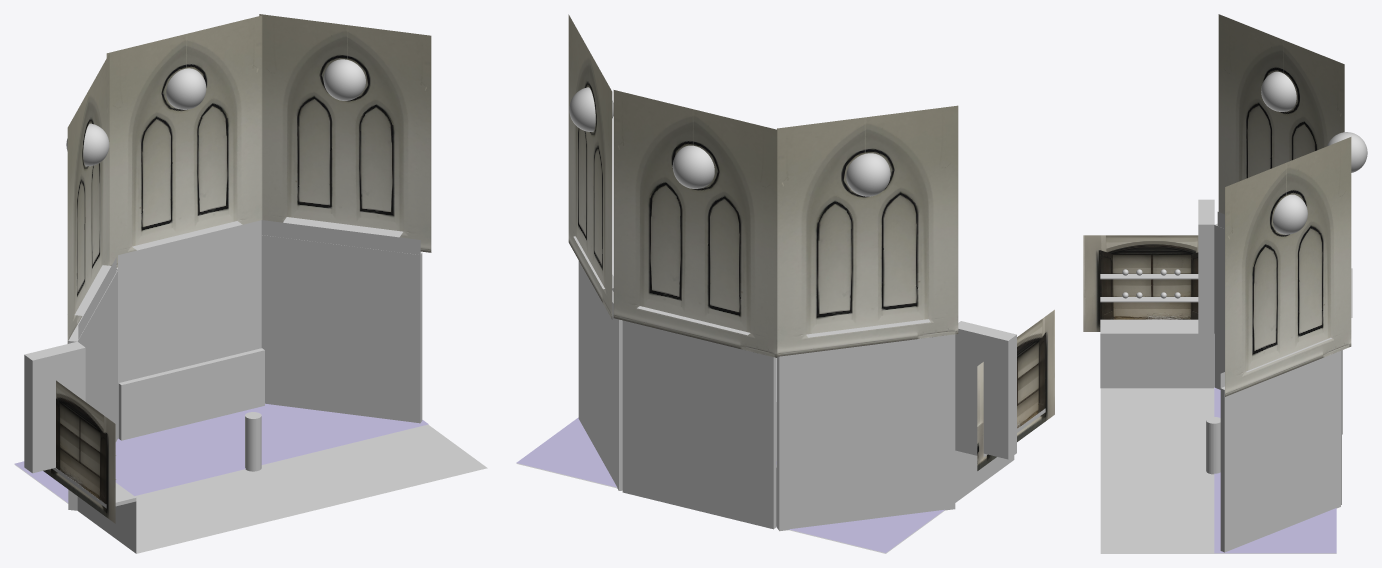
Rendered from LAB-1-fbx.fbx.
3 renders of one model, left to right at view 1: azimuth 30°, elevation 25°; view 2: azimuth 150°, elevation 25°; view 3: azimuth 270°, elevation 25°, orthographic. The views are drawn at different scales.
Parts seen in each view (by area): view 1: window.001, window, Plane.003, Plane.001, Plane, Plane.002, Plane.014, window.002, IMG_5485, Plane.009, Plane.004, Plane.010 (+9 smaller); view 2: window.002, window, Plane.004, Plane, window.001, Plane.009, Plane.003, Plane.002, IMG_5485, Icosphere-center.002, Icosphere-center, Plane.007 (+1 smaller); view 3: window.001, Plane.003, Plane.001, window.002, IMG_5485, Plane.007, Plane.002, Plane.009, Plane.004, Plane.008, Icosphere-center.002, Icosphere-center.001 (+4 smaller).
Boxes of the visible parts, bbox=[...] form: window.001: bbox=[259, 14, 431, 252]; window: bbox=[106, 15, 262, 267]; Plane.003: bbox=[261, 235, 422, 423]; Plane.001: bbox=[14, 424, 487, 553]; Plane: bbox=[116, 235, 261, 438]; Plane.002: bbox=[14, 403, 428, 502]; Plane.014: bbox=[118, 348, 264, 440]; window.002: bbox=[67, 54, 109, 343]; IMG_5485: bbox=[43, 380, 115, 523]; Plane.009: bbox=[24, 341, 85, 473]; Plane.004: bbox=[68, 270, 117, 510]; Plane.010: bbox=[261, 220, 420, 254]; window.002: bbox=[777, 105, 958, 356]; window: bbox=[613, 90, 777, 357]; Plane.004: bbox=[776, 334, 955, 531]; Plane: bbox=[622, 320, 776, 529]; window.001: bbox=[568, 14, 612, 319]; Plane.009: bbox=[955, 321, 1016, 459]; Plane.003: bbox=[578, 261, 622, 490]; Plane.002: bbox=[516, 417, 944, 552]; IMG_5485: bbox=[977, 309, 1054, 470]; Icosphere-center.002: bbox=[846, 153, 890, 196]; Icosphere-center: bbox=[672, 145, 714, 188]; Plane.007: bbox=[955, 450, 1014, 502]; window.001: bbox=[1225, 137, 1351, 396]; Plane.003: bbox=[1220, 351, 1340, 552]; Plane.001: bbox=[1100, 388, 1336, 553]; window.002: bbox=[1218, 14, 1344, 214]; IMG_5485: bbox=[1083, 235, 1198, 331]; Plane.007: bbox=[1100, 333, 1213, 388]; Plane.002: bbox=[1214, 387, 1336, 553]; Plane.009: bbox=[1198, 199, 1214, 333]; Plane.004: bbox=[1214, 223, 1342, 434]; Plane.008: bbox=[1100, 319, 1212, 335]; Icosphere-center.002: bbox=[1261, 71, 1296, 111]; Icosphere-center.001: bbox=[1273, 194, 1307, 234].
Size of the model in its own units: 575 by 511 by 355.
